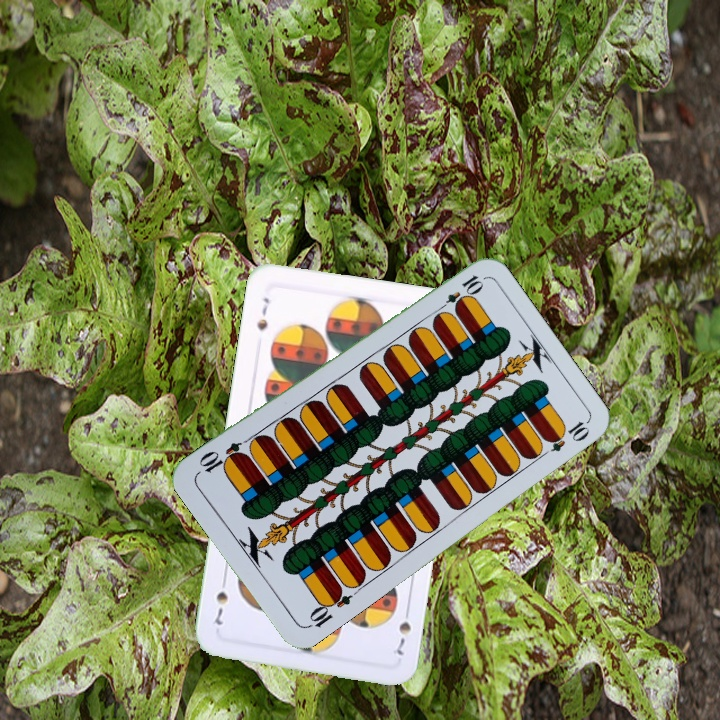E10: (303, 583, 354, 631), (433, 271, 485, 316)
S7: (392, 602, 414, 658), (253, 293, 272, 333)
